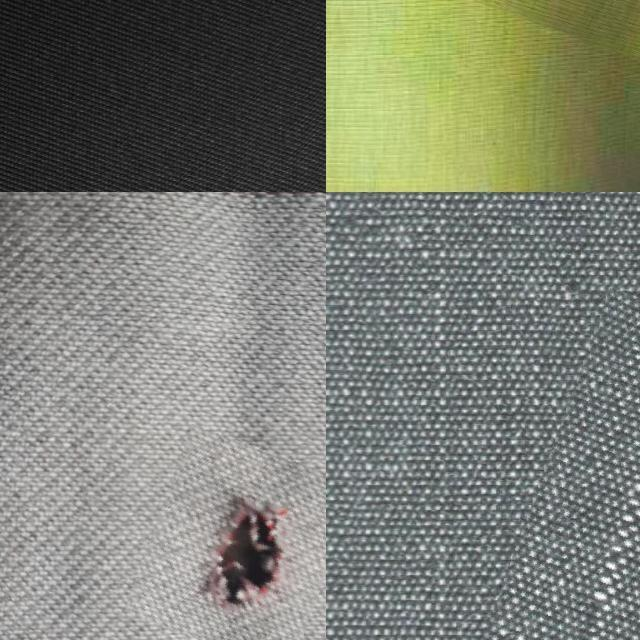Thread_other: (505, 295, 640, 640), (326, 0, 640, 65)
seam: (138, 435, 326, 640)
